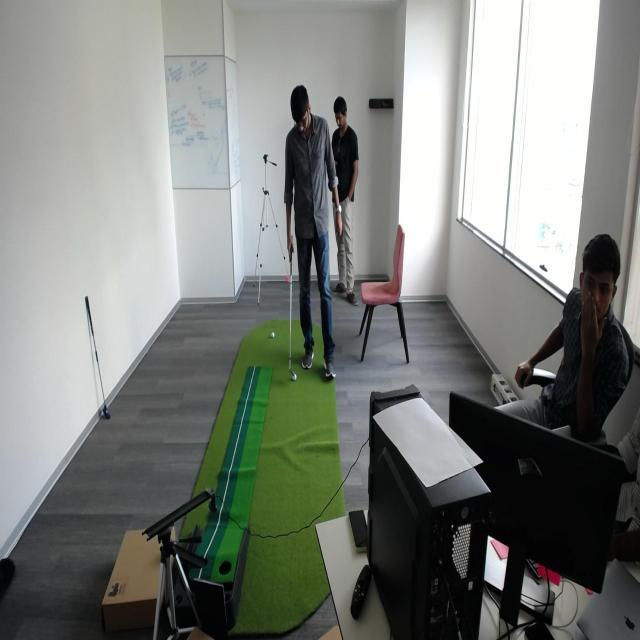ClubHead: (97, 401, 115, 424), (289, 358, 296, 379)
GolfBall: (270, 330, 276, 338), (293, 373, 298, 381)
